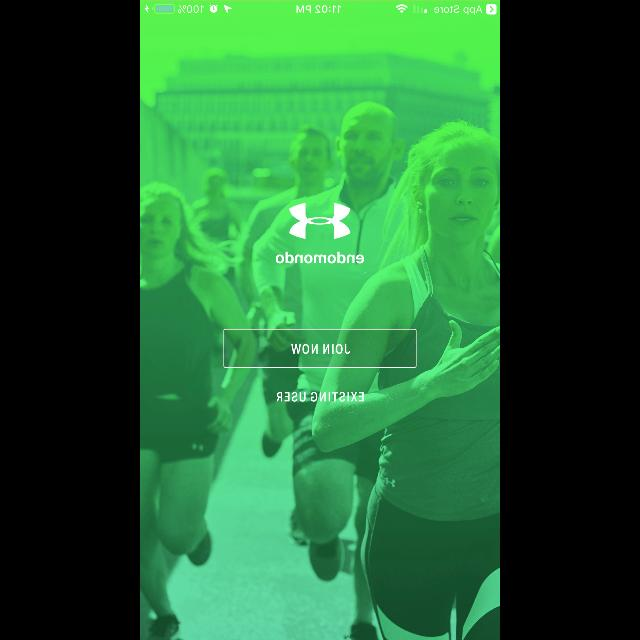backgroundimage: (140, 1, 500, 640)
image: (289, 203, 351, 239)
text: (276, 252, 364, 264), (276, 392, 364, 402)
textbutton: (224, 328, 416, 368)
uppertaskbar: (140, 1, 500, 16)
